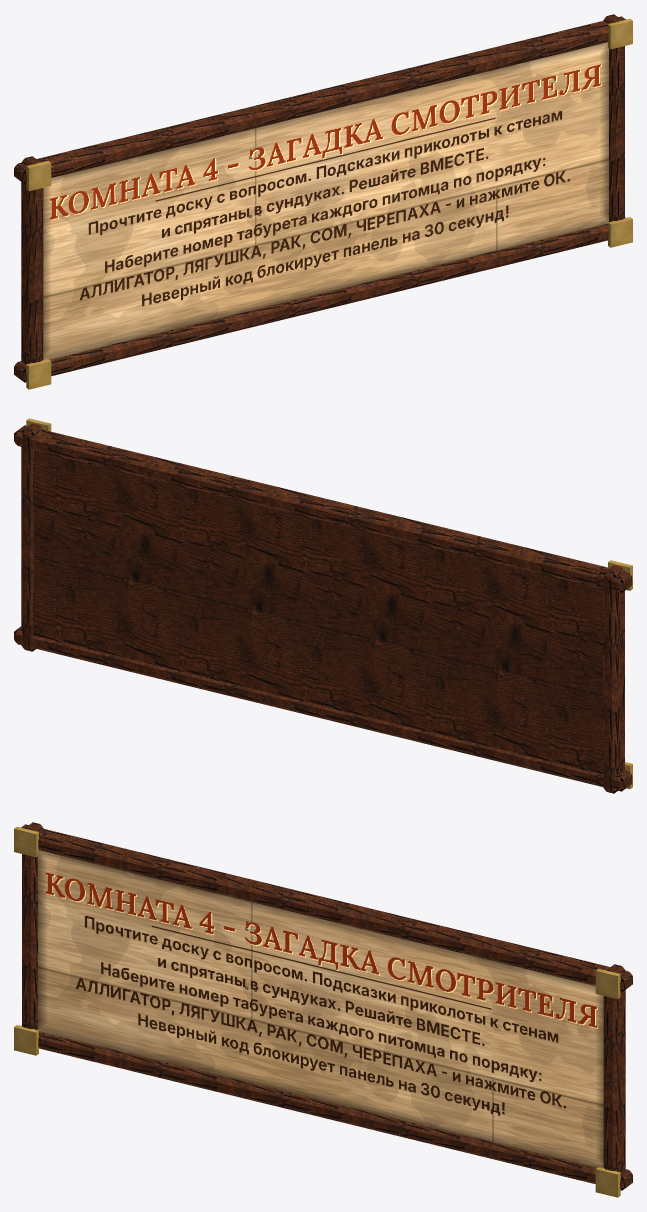
Rendered from sg_ru_esc_r4.glb.
The picture shows the model from 3 angles, top to bottom: view 1: azimuth 30°, elevation 25°; view 2: azimuth 150°, elevation 25°; view 3: azimuth 330°, elevation 25°; orthographic projection.
Visible parts, largest first — view 1: spire; view 2: spire; view 3: spire.
Boxes of the visible parts, x1,y1,x2,y2 form: spire: (14, 14, 632, 389); spire: (14, 418, 632, 793); spire: (14, 822, 632, 1197).
Bounding box in the file's own units: 4.96 × 1.72 × 0.19.
3 materials, 3 textured.
